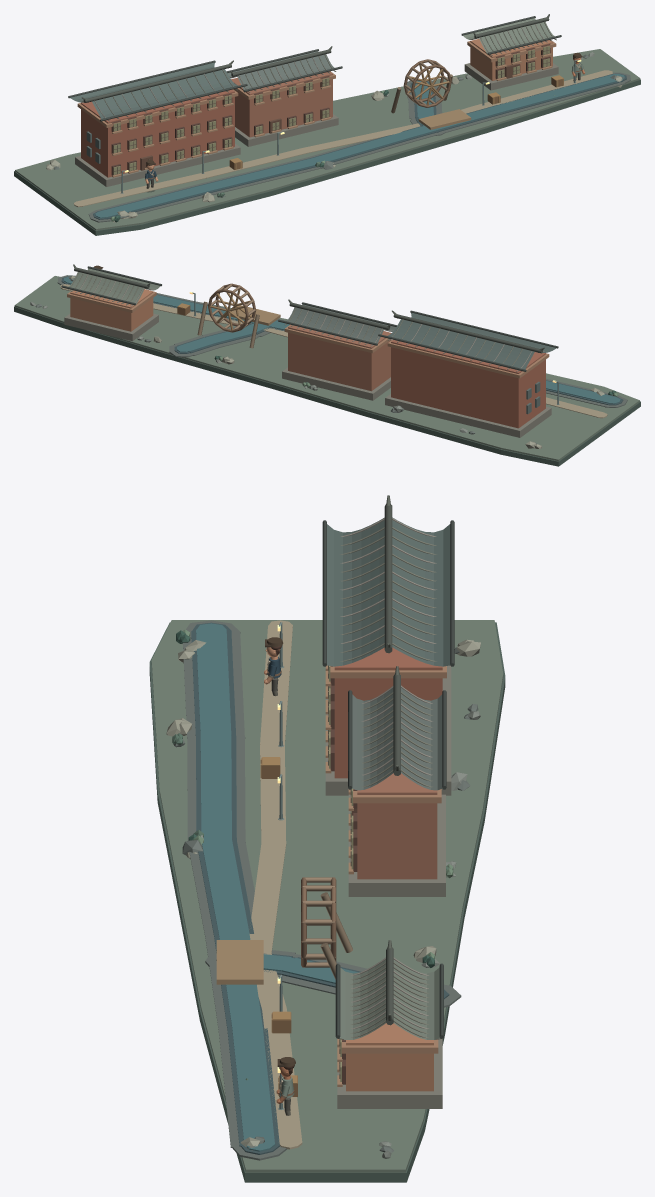
The model's file is lowell.glb.
3 renders of one model, top to bottom at view 1: azimuth 30°, elevation 25°; view 2: azimuth 150°, elevation 25°; view 3: azimuth 270°, elevation 25°, orthographic. The views are drawn at different scales.
Visible parts, largest first — view 1: TerrainAndBuildings, LowellMillwheel; view 2: TerrainAndBuildings, LowellMillwheel; view 3: TerrainAndBuildings, LowellMillwheel.
Part boxes in pixels (bbox=[...]): TerrainAndBuildings: bbox=[14, 14, 640, 235]; LowellMillwheel: bbox=[403, 59, 451, 107]; TerrainAndBuildings: bbox=[14, 264, 640, 466]; LowellMillwheel: bbox=[208, 283, 256, 332]; TerrainAndBuildings: bbox=[149, 495, 505, 1182]; LowellMillwheel: bbox=[301, 877, 336, 967].
Bounding box in the file's own units: 1.73 × 0.2592 × 0.4717.
